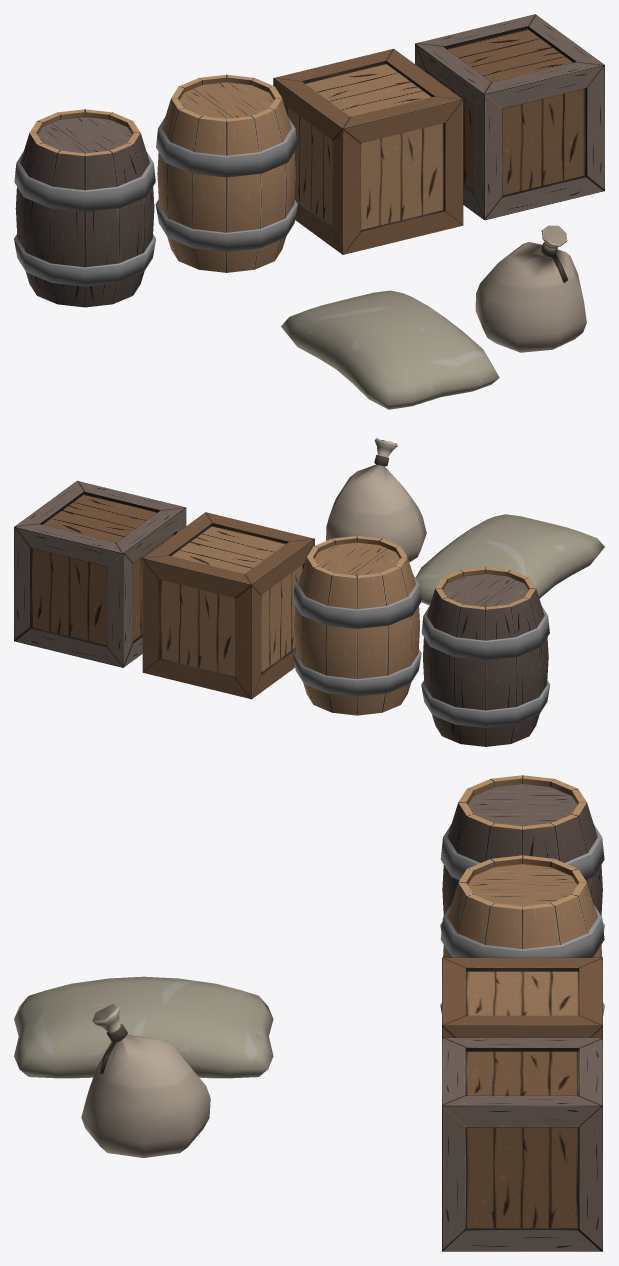
Rendered from props_sack_02.glb.
3 renders of one model, top to bottom at view 1: azimuth 30°, elevation 25°; view 2: azimuth 150°, elevation 25°; view 3: azimuth 270°, elevation 25°, orthographic. The views are drawn at different scales.
Parts seen in each view (by area): view 1: props_crate_01, props_crate_02, props_barrel_02, props_barrel_01, props_sack_01, props_sack_02; view 2: props_crate_01, props_crate_02, props_barrel_02, props_barrel_01, props_sack_01, props_sack_02; view 3: props_crate_02, props_sack_01, props_barrel_01, props_crate_01, props_barrel_02, props_sack_02.
Boxes of the visible parts, x1,y1,x2,y2 form: props_crate_01: [273, 48, 463, 254]; props_crate_02: [415, 14, 604, 220]; props_barrel_02: [14, 109, 155, 307]; props_barrel_01: [155, 74, 297, 272]; props_sack_01: [281, 290, 499, 409]; props_sack_02: [475, 225, 586, 352]; props_crate_01: [142, 512, 314, 699]; props_crate_02: [14, 481, 186, 667]; props_barrel_02: [421, 567, 550, 746]; props_barrel_01: [292, 535, 421, 715]; props_sack_01: [415, 514, 604, 605]; props_sack_02: [326, 438, 426, 562]; props_crate_02: [442, 1037, 602, 1251]; props_sack_01: [14, 976, 273, 1078]; props_barrel_01: [440, 855, 604, 1015]; props_crate_01: [442, 957, 602, 1037]; props_barrel_02: [440, 775, 604, 931]; props_sack_02: [81, 1004, 210, 1157].
Bounding box in the file's own units: 3.86 × 1.02 × 3.12.
1 material, 1 textured.
